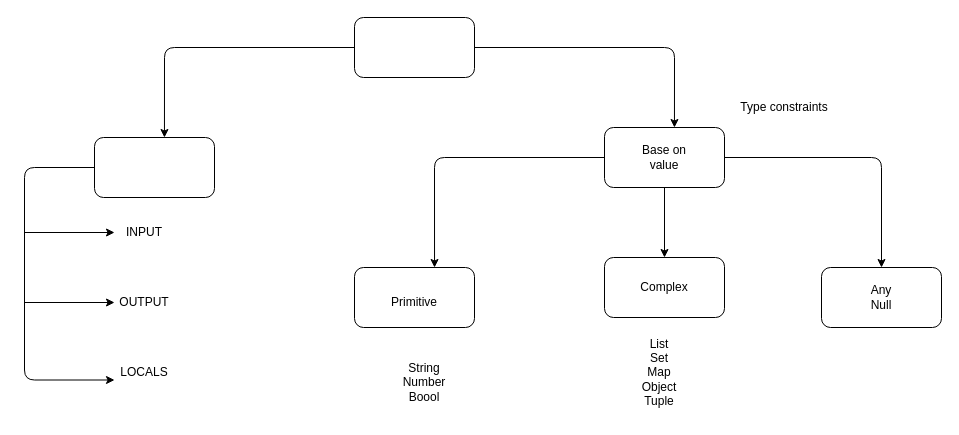
Some shapes in this 959 by 435 pixel diagram are drawn without their labels. The shapes that lost their labels are listed below. From the top down, each one's box as (x1, y1, x2, y2) in pixels, then its label:
(354, 16, 474, 78): VARIABLES
(94, 136, 214, 198): Base on purpurse
